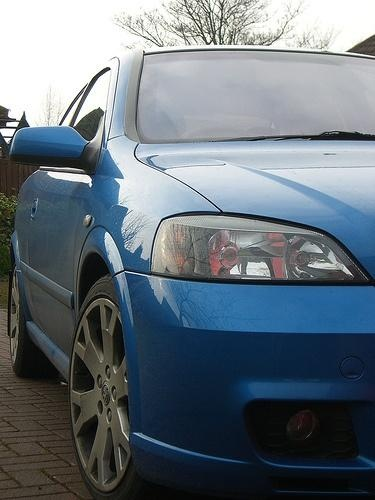car: (2, 43, 375, 500)
